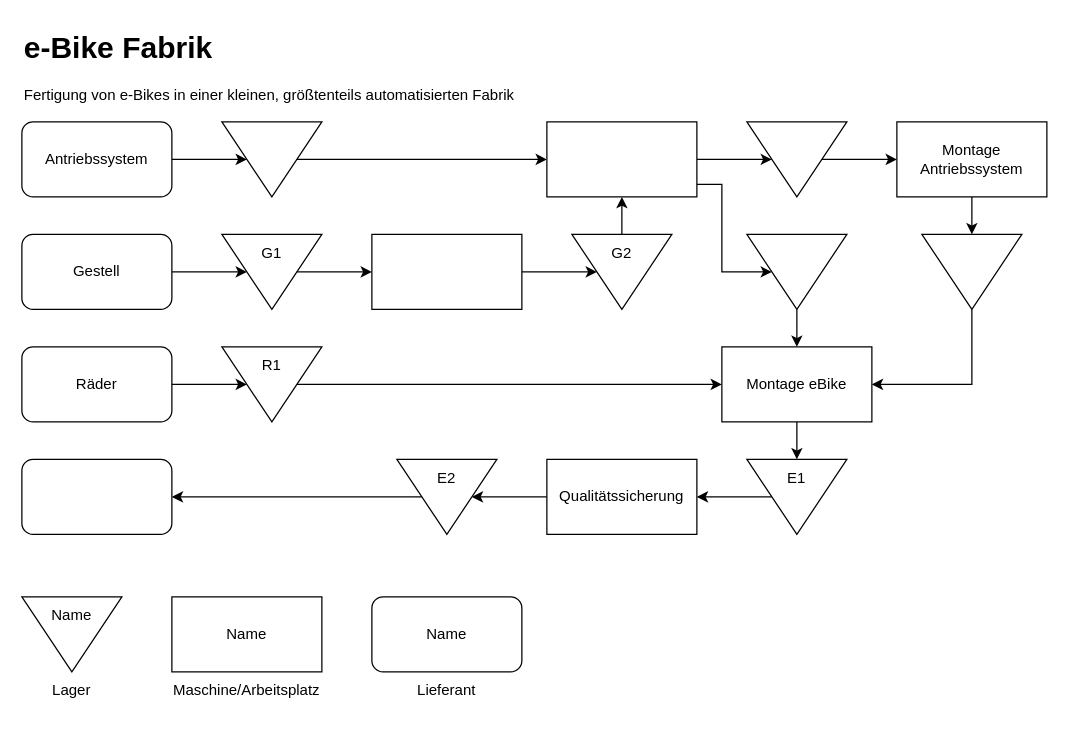
Image size: 1069x730. Some labels were removed from this diagram. Each missing label, with the box of its shape:
AS1: (221, 121, 322, 197)
AS2: (746, 121, 847, 197)
AS3: (921, 233, 1022, 309)
G3: (746, 233, 847, 309)
Händler: (21, 458, 172, 534)
Lackierei: (546, 121, 697, 197)
Montage Gestell: (371, 233, 522, 309)
